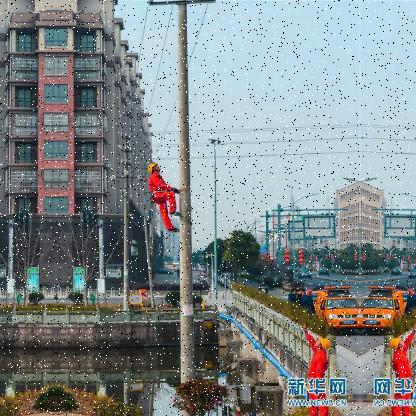Helmet: (146, 156, 166, 178)
